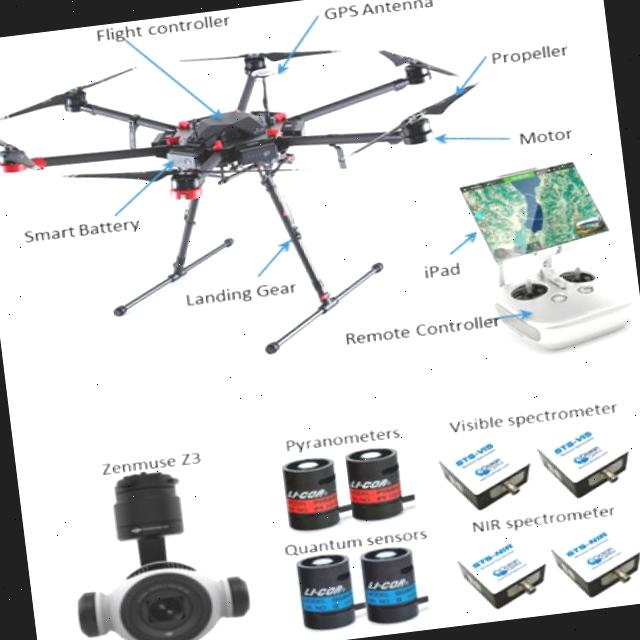drone: (0, 12, 523, 266)
